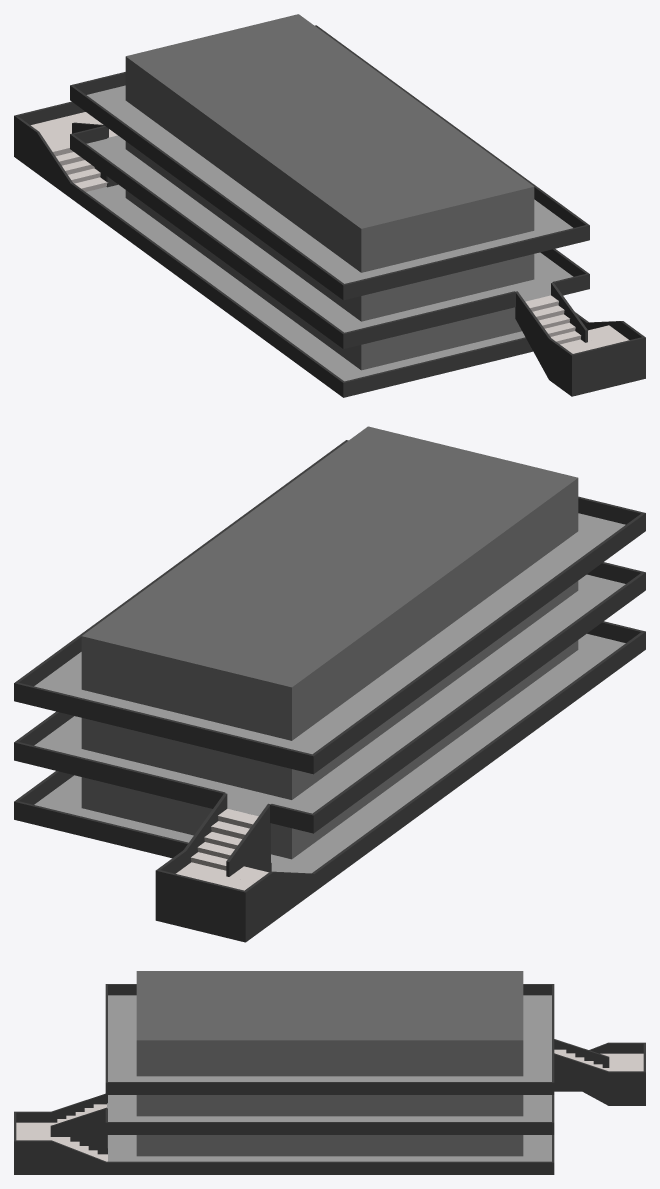
File: stage2.1.fbx
The picture shows the model from 3 angles, top to bottom: view 1: azimuth 30°, elevation 25°; view 2: azimuth 150°, elevation 25°; view 3: azimuth 270°, elevation 25°; orthographic projection. The views are drawn at different scales.
Parts seen in each view (by area): view 1: Room_3F, Wall_3F, Wall_2F, Floor_2F, Floor_3F, Wall_1F, Floor_1F, Room_2F, Stairs_EastWall, Room_1F, Stairs_WestWall, Stairs_WestFloor (+1 smaller); view 2: Room_3F, Wall_3F, Wall_2F, Floor_2F, Floor_3F, Wall_1F, Floor_1F, Stairs_WestWall, Room_2F, Room_1F, Stairs_WestFloor; view 3: Room_3F, Room_1F, Room_2F, Floor_3F, Wall_3F, Wall_1F, Wall_2F, Stairs_EastWall, Stairs_WestWall, Floor_2F, Floor_1F, Stairs_EastFloor (+1 smaller).
Part boxes in pixels (box(x1,y1,x2,y2)): Room_3F: box(125, 14, 534, 272); Wall_3F: box(70, 25, 589, 300); Wall_2F: box(70, 125, 589, 348); Floor_2F: box(86, 135, 573, 332); Floor_3F: box(87, 85, 572, 283); Wall_1F: box(70, 176, 588, 397); Floor_1F: box(86, 184, 524, 381); Room_2F: box(125, 141, 534, 321); Stairs_EastWall: box(515, 282, 645, 396); Room_1F: box(125, 190, 521, 370); Stairs_WestWall: box(14, 101, 108, 197); Stairs_WestFloor: box(31, 112, 117, 191); Room_3F: box(81, 426, 578, 740); Wall_3F: box(14, 440, 645, 774); Wall_2F: box(14, 562, 645, 833); Floor_2F: box(34, 574, 625, 816); Floor_3F: box(34, 513, 625, 754); Wall_1F: box(14, 621, 645, 892); Floor_1F: box(34, 634, 625, 873); Stairs_WestWall: box(155, 793, 313, 942); Room_2F: box(81, 581, 578, 799); Room_1F: box(81, 640, 578, 859); Stairs_WestFloor: box(176, 808, 268, 890); Room_3F: box(136, 971, 523, 1076); Room_1F: box(136, 1135, 523, 1156); Room_2F: box(136, 1095, 523, 1116); Floor_3F: box(108, 995, 551, 1081); Wall_3F: box(105, 984, 554, 1094); Wall_1F: box(105, 1135, 554, 1174); Wall_2F: box(105, 1095, 554, 1134); Stairs_EastWall: box(14, 1093, 106, 1174); Stairs_WestWall: box(554, 1039, 645, 1105); Floor_2F: box(107, 1095, 551, 1121); Floor_1F: box(108, 1135, 551, 1161); Stairs_EastFloor: box(16, 1104, 107, 1161).
Size of what is drawn, in the model's own units: 869 by 492 by 2351.
